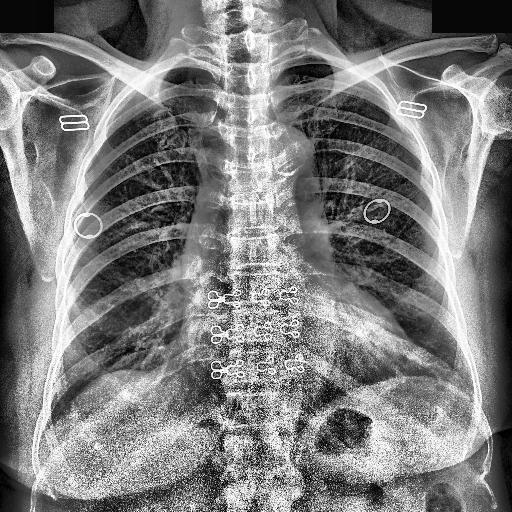0- Aortic enlargement: (244, 112, 316, 180), (262, 122, 314, 174)
3- Cardiomegaly: (170, 303, 420, 389), (174, 322, 426, 396), (173, 318, 415, 381)
